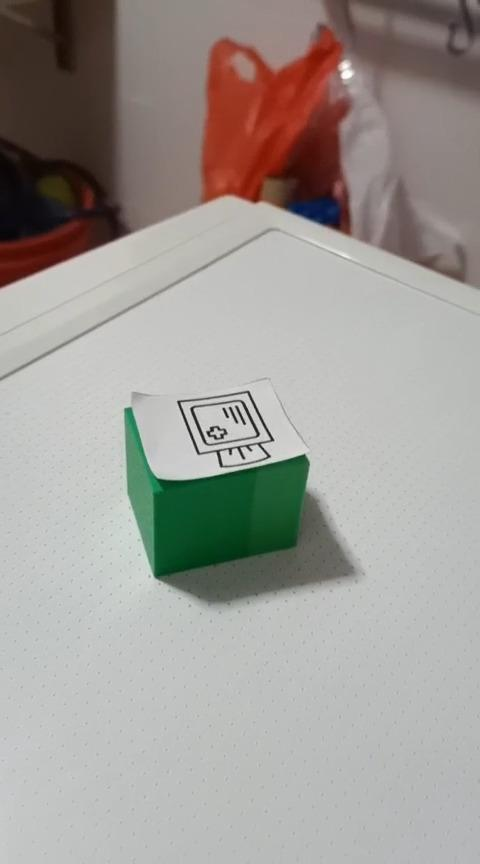Gauze: (122, 375, 311, 579)
